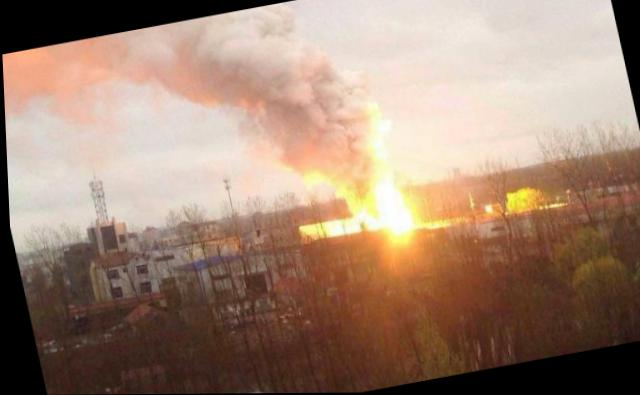fire: (368, 170, 415, 241), (297, 215, 357, 242), (346, 189, 379, 229)
